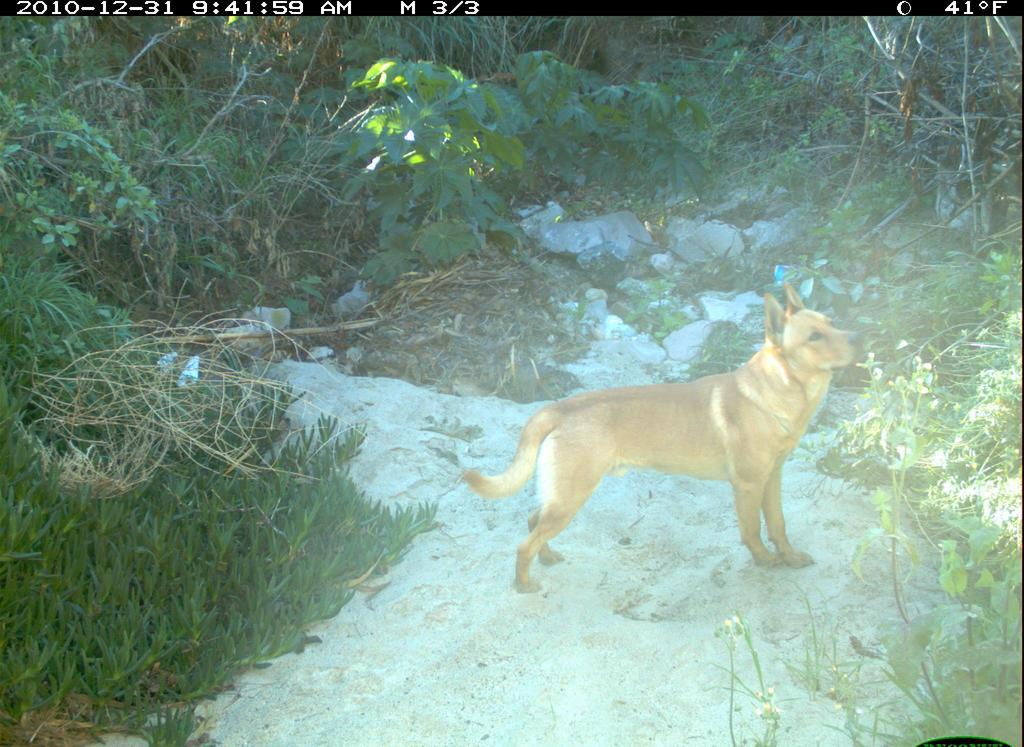dog: (455, 282, 862, 597)
